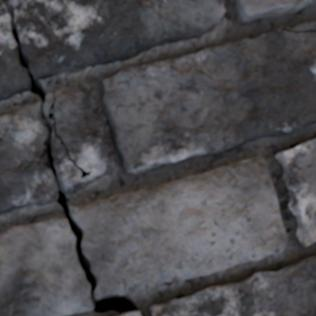brick: (103, 28, 315, 173), (151, 256, 315, 315), (276, 139, 315, 246), (231, 0, 315, 22), (294, 20, 315, 29), (118, 312, 140, 315)
broken_brick: (71, 155, 288, 298), (11, 0, 226, 79), (0, 216, 93, 315), (52, 80, 108, 195), (0, 104, 56, 214), (0, 4, 29, 101), (45, 91, 52, 111)
crack: (0, 0, 138, 313), (277, 26, 315, 33), (154, 183, 164, 187)
